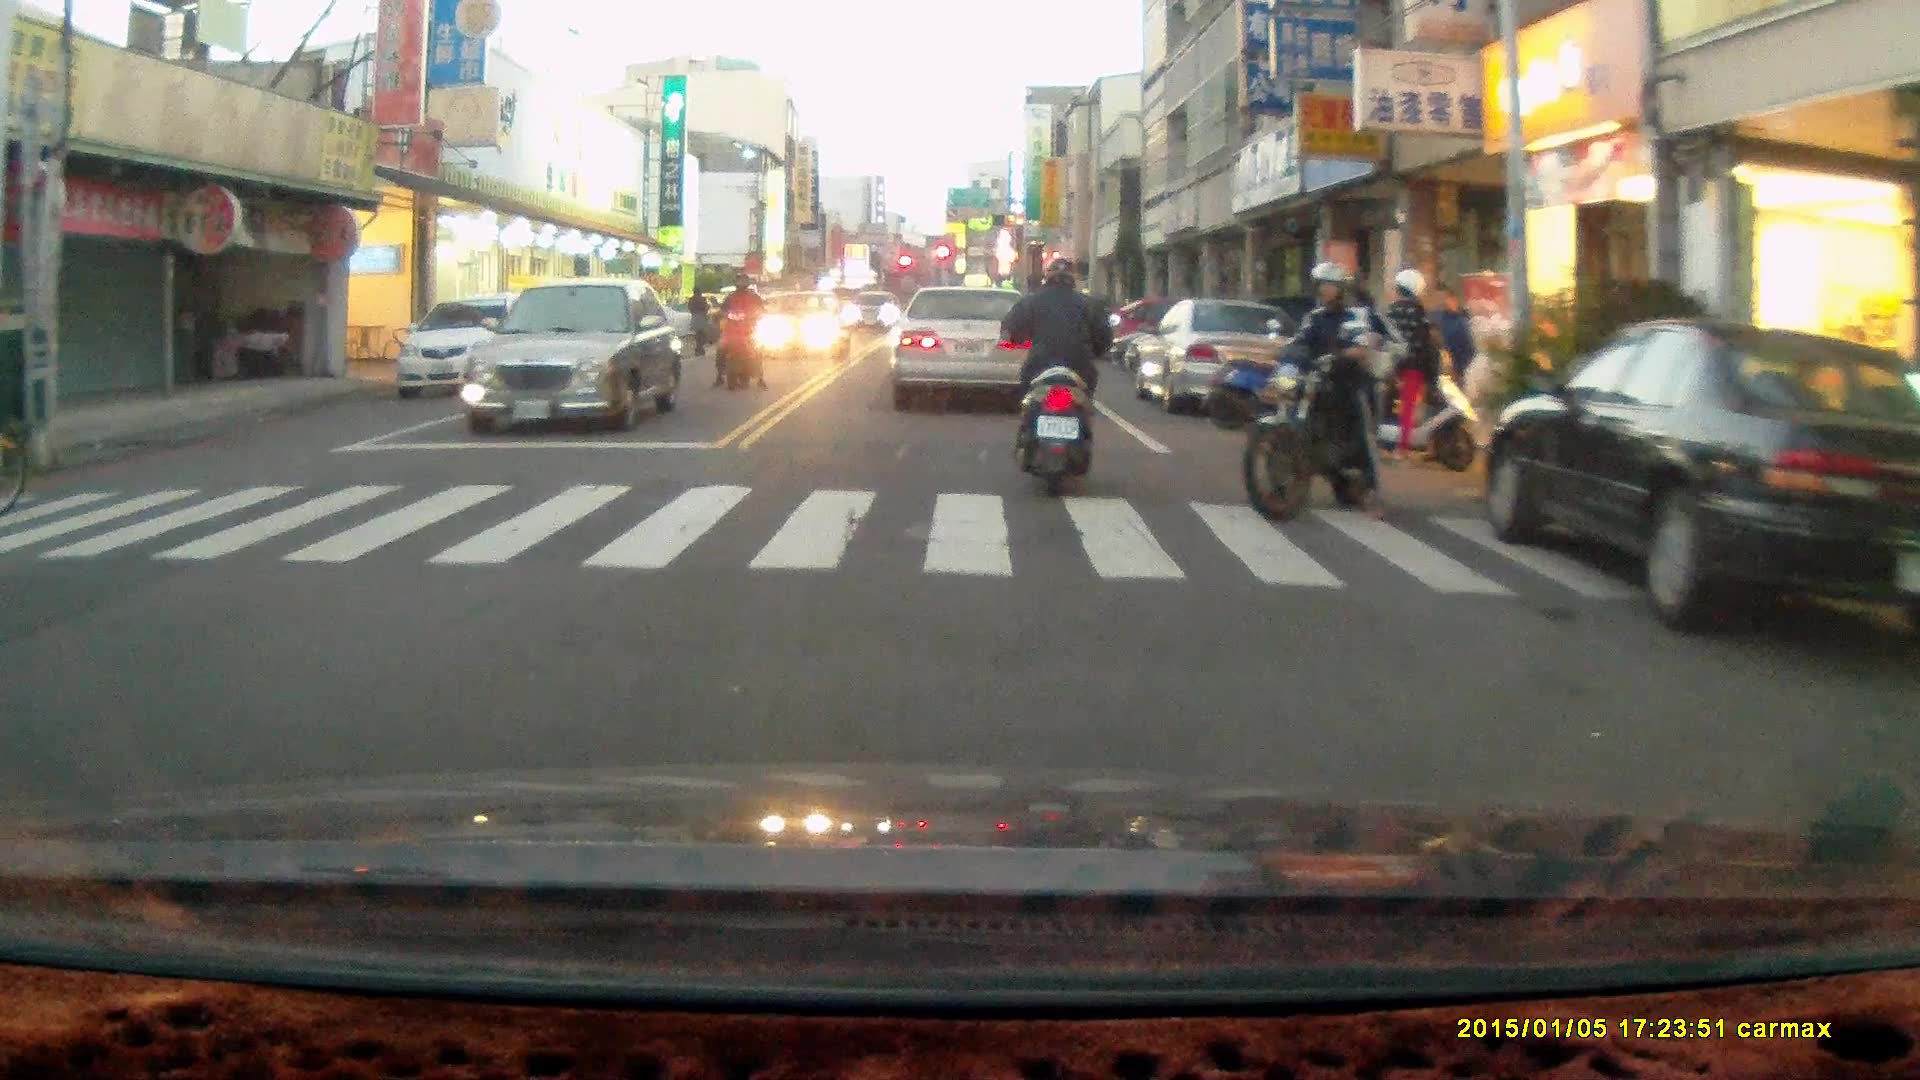pedestrian: (1380, 267, 1437, 455), (1425, 281, 1475, 438), (684, 282, 711, 356)
rider: (1242, 255, 1447, 520), (1001, 248, 1119, 495), (711, 264, 769, 391)
vehicle: (1490, 318, 1920, 634), (467, 277, 686, 435), (1130, 299, 1307, 414), (887, 286, 1042, 414), (395, 290, 555, 405), (750, 287, 848, 364)
